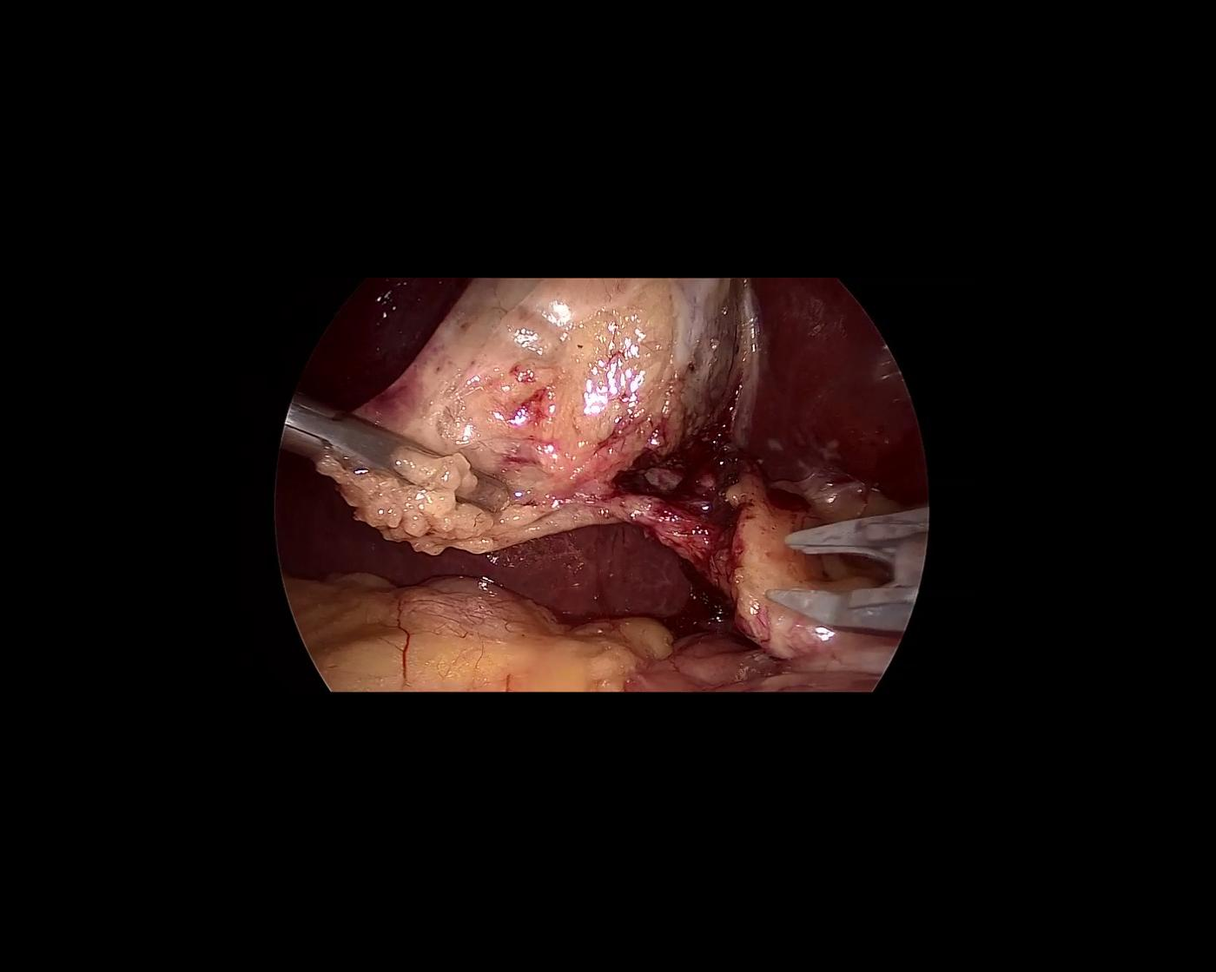Forceps: (271, 391, 525, 540)
Gallbladder: (318, 276, 744, 557)
Liver: (269, 269, 706, 625), (707, 258, 929, 533)
